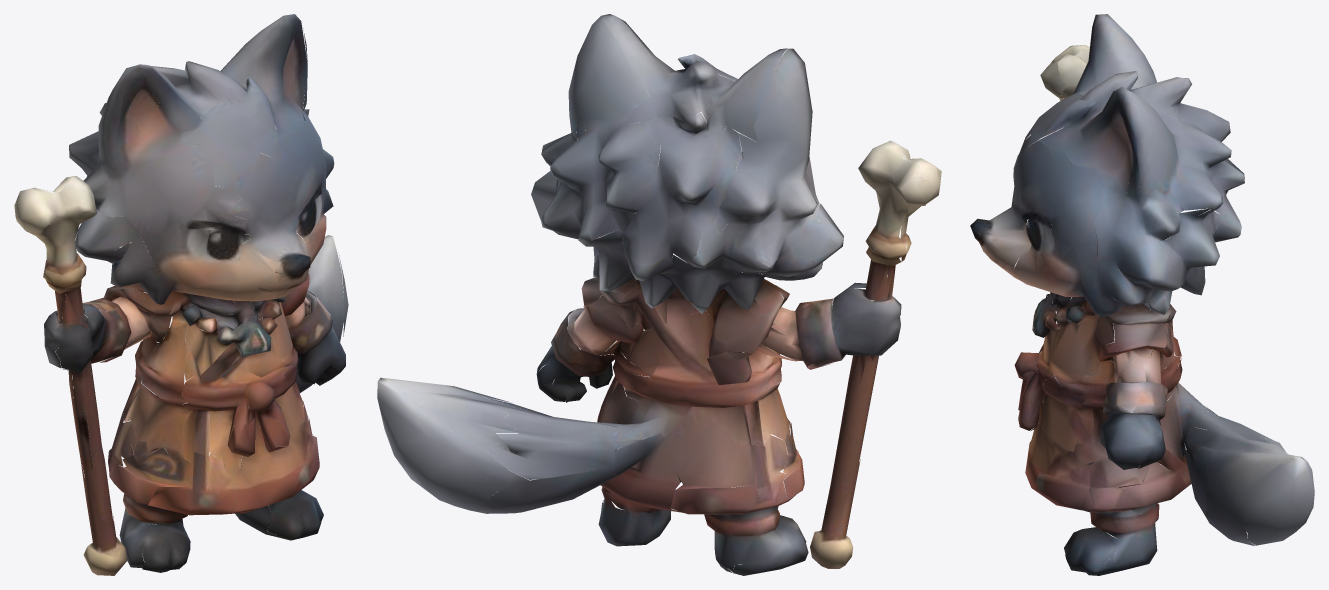
The model's file is mob_wolfmage.glb.
The picture shows the model from 3 angles, left to right: view 1: azimuth 30°, elevation 25°; view 2: azimuth 150°, elevation 25°; view 3: azimuth 270°, elevation 25°; orthographic projection. The views are drawn at different scales.
Visible parts, largest first — view 1: tripo_node_c53249a6-ce95-44d8-90b7-f686ff91dc91; view 2: tripo_node_c53249a6-ce95-44d8-90b7-f686ff91dc91; view 3: tripo_node_c53249a6-ce95-44d8-90b7-f686ff91dc91.
Boxes of the visible parts, x1,y1,x2,y2 form: tripo_node_c53249a6-ce95-44d8-90b7-f686ff91dc91: (14,14,348,575); tripo_node_c53249a6-ce95-44d8-90b7-f686ff91dc91: (377,14,941,575); tripo_node_c53249a6-ce95-44d8-90b7-f686ff91dc91: (970,14,1314,575).
Size of the model in its own units: 0.9028 by 1 by 0.6491.
Materials: 1 (1 with a texture image).
